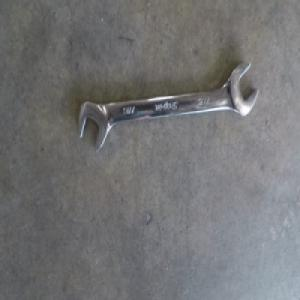Wrench: (78, 63, 257, 152)
